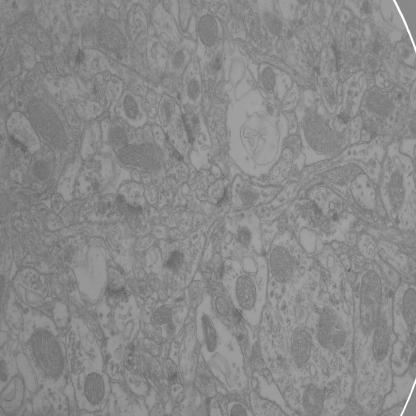mitochondria: (27, 97, 71, 151), (29, 326, 67, 385), (301, 110, 337, 157), (359, 268, 383, 335), (116, 140, 160, 173), (316, 307, 347, 352), (269, 244, 295, 288), (290, 322, 314, 369), (365, 84, 397, 119), (82, 370, 107, 406), (301, 382, 327, 416), (235, 273, 256, 313), (200, 310, 219, 354), (389, 170, 406, 218), (197, 13, 219, 47), (150, 302, 176, 327), (372, 327, 389, 362), (122, 91, 141, 122), (362, 50, 383, 76), (260, 63, 276, 93), (186, 77, 202, 101), (267, 15, 285, 36), (34, 160, 50, 182), (172, 48, 187, 71)
